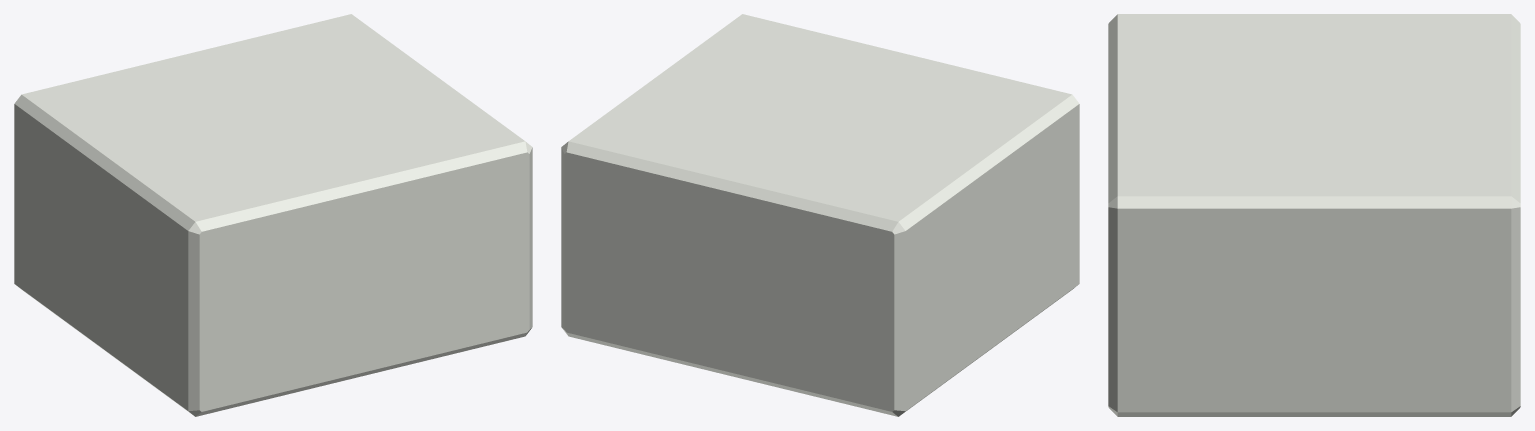
File: utility_laundry.obj
3 views of the same model, side by side, from view 1: azimuth 30°, elevation 25°; view 2: azimuth 150°, elevation 25°; view 3: azimuth 270°, elevation 25° (orthographic). The views are drawn at different scales.
Visible parts, largest first — view 1: utility_laundry_ceramic; view 2: utility_laundry_ceramic; view 3: utility_laundry_ceramic.
Part boxes in pixels (x1,y1,x2,y2): utility_laundry_ceramic: (14, 14, 532, 416); utility_laundry_ceramic: (561, 14, 1079, 416); utility_laundry_ceramic: (1108, 14, 1520, 416).
Size of the model in its own units: 48 by 27 by 44.
Materials: 2 (2 with a texture image).
